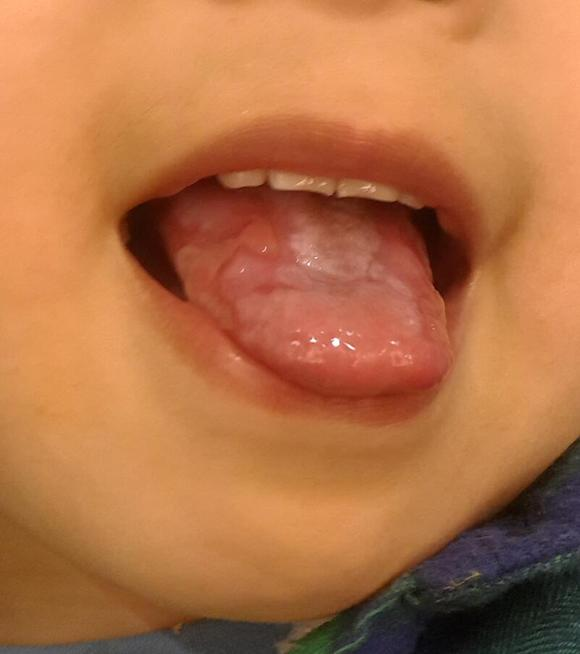baitaishe: (154, 167, 451, 398)
botaishe: (257, 191, 393, 285)
hongshe: (154, 167, 451, 398)
huataishe: (289, 305, 399, 367)
